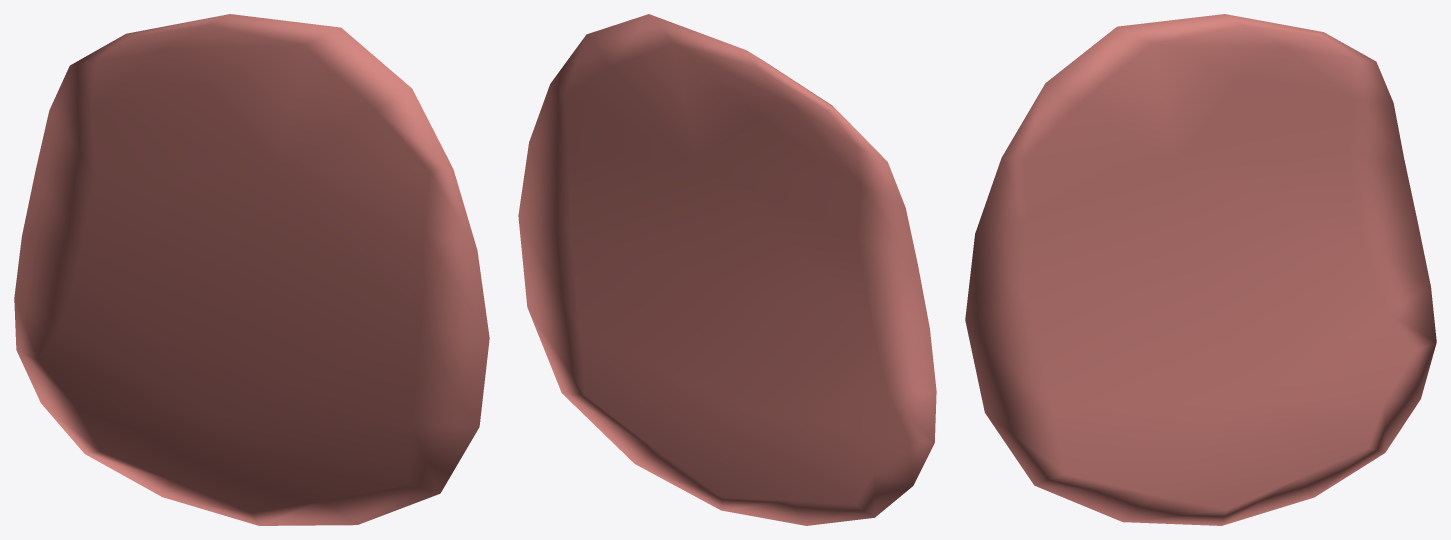
3 views of the same model, side by side, from view 1: azimuth 30°, elevation 25°; view 2: azimuth 210°, elevation 25°; view 3: azimuth 270°, elevation 25° (orthographic). The views are drawn at different scales.
Visible parts, largest first — view 1: ZA_cb7ed4748d0ebcb7; view 2: ZA_cb7ed4748d0ebcb7; view 3: ZA_cb7ed4748d0ebcb7.
Part boxes in pixels (bbox=[...]): ZA_cb7ed4748d0ebcb7: bbox=[14, 14, 489, 525]; ZA_cb7ed4748d0ebcb7: bbox=[518, 14, 936, 525]; ZA_cb7ed4748d0ebcb7: bbox=[965, 14, 1436, 525].
Bounding box in the file's own units: 0.00514 × 0.0112 × 0.00931.
